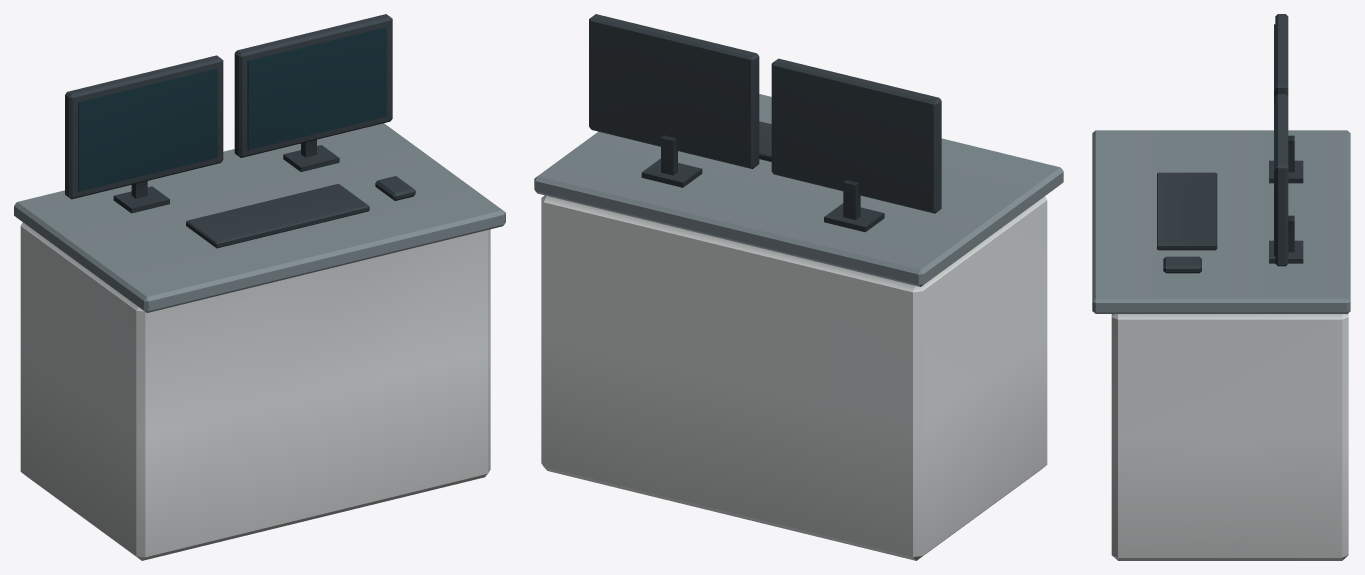
Rendered from console.glb.
3 renders of one model, left to right at view 1: azimuth 30°, elevation 25°; view 2: azimuth 150°, elevation 25°; view 3: azimuth 270°, elevation 25°, orthographic. The views are drawn at different scales.
Visible parts, largest first — view 1: body, top, screen, monitor, keyboard; view 2: body, monitor, top; view 3: body, top, keyboard, monitor, screen.
Part boxes in pixels (x1,y1,x2,y2): body: (20, 222, 490, 560); top: (14, 123, 505, 312); screen: (78, 27, 386, 191); monitor: (65, 14, 392, 213); keyboard: (186, 176, 415, 248); body: (541, 195, 1047, 560); monitor: (589, 14, 941, 232); top: (534, 94, 1063, 286); body: (1111, 313, 1348, 560); top: (1092, 130, 1350, 313); keyboard: (1157, 172, 1217, 273); monitor: (1269, 14, 1303, 266); screen: (1274, 24, 1275, 255).
Size of the model in its own units: 0.94 by 1 by 0.6.
